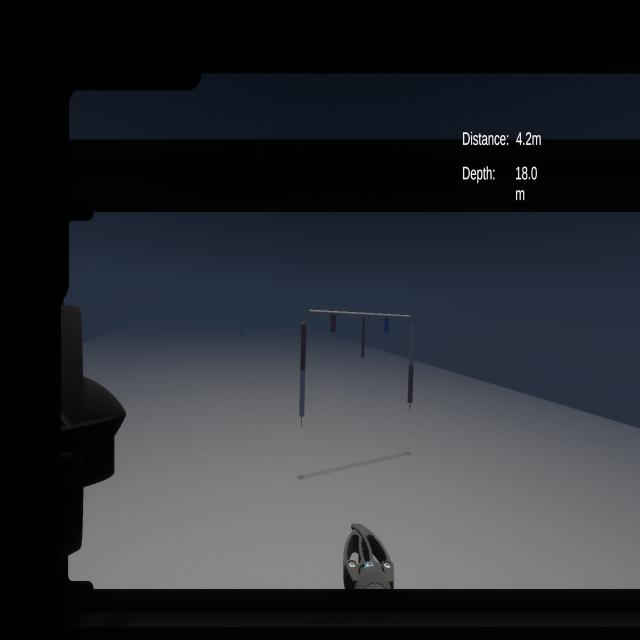Depth: (458, 161, 545, 208)
Distance: (458, 124, 547, 155)
Gate: (282, 282, 431, 454)
